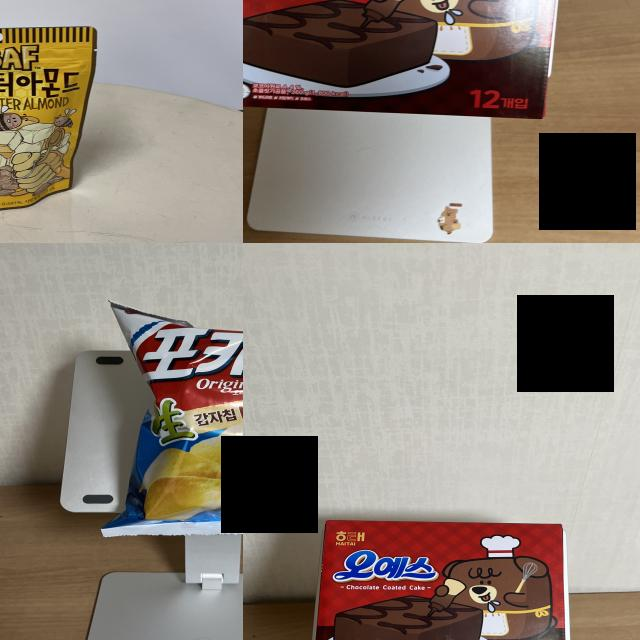honeyAmond: (0, 20, 90, 208)
ohYes: (243, 0, 547, 109), (328, 526, 562, 640)
pokaChip: (119, 308, 243, 537)
